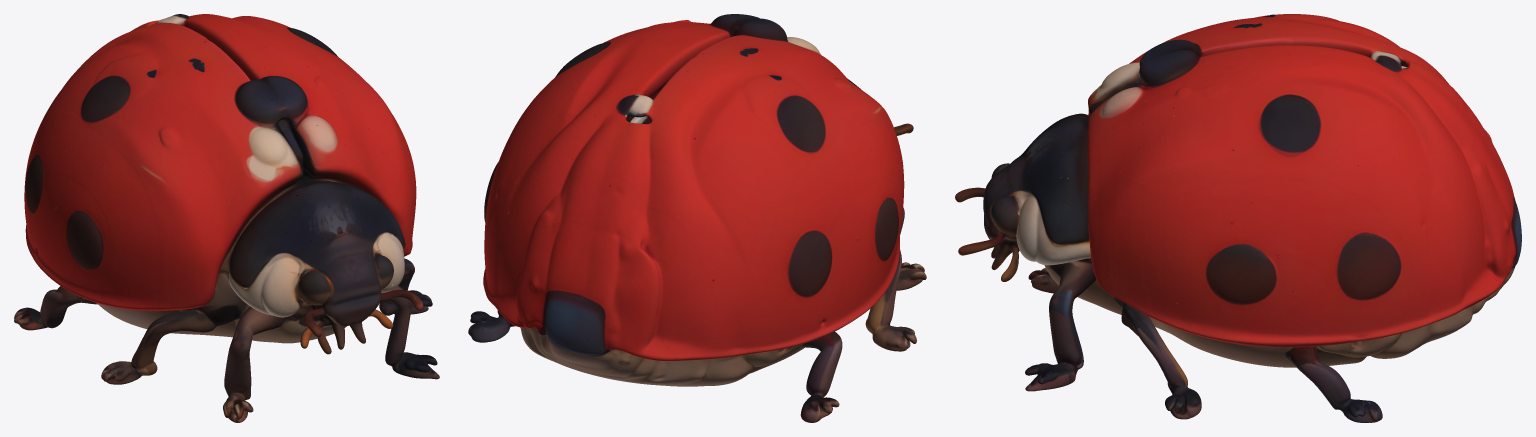
Rendered from ladybug.glb.
3 renders of one model, left to right at view 1: azimuth 30°, elevation 25°; view 2: azimuth 150°, elevation 25°; view 3: azimuth 270°, elevation 25°, orthographic. The views are drawn at different scales.
Parts seen in each view (by area): view 1: tripo_node_5e9749a1-e5af-483c-b5f3-7ed34f94998a; view 2: tripo_node_5e9749a1-e5af-483c-b5f3-7ed34f94998a; view 3: tripo_node_5e9749a1-e5af-483c-b5f3-7ed34f94998a.
Boxes of the visible parts, x1,y1,x2,y2 form: tripo_node_5e9749a1-e5af-483c-b5f3-7ed34f94998a: [14, 14, 439, 422]; tripo_node_5e9749a1-e5af-483c-b5f3-7ed34f94998a: [468, 14, 926, 422]; tripo_node_5e9749a1-e5af-483c-b5f3-7ed34f94998a: [955, 14, 1521, 422].
Size of the model in its own units: 0.7473 by 0.5787 by 1.
Materials: 1 (1 with a texture image).
